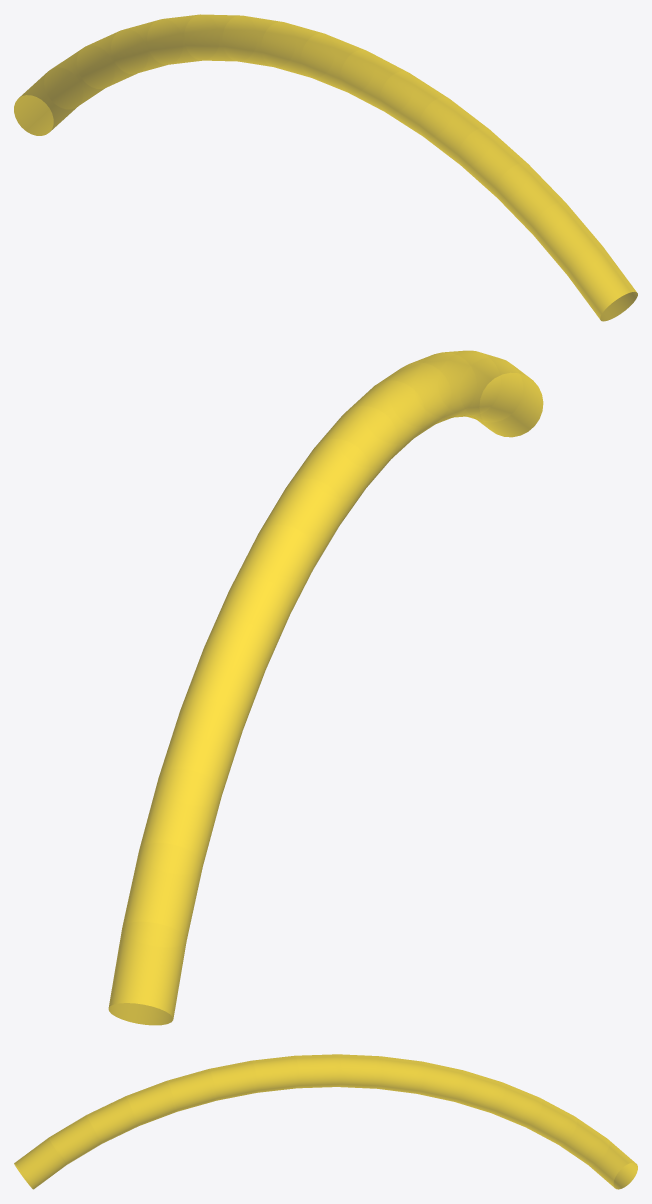
File: Event_40932208_track_33.fbx
3 renders of one model, top to bottom at view 1: azimuth 30°, elevation 25°; view 2: azimuth 150°, elevation 25°; view 3: azimuth 270°, elevation 25°, orthographic. The views are drawn at different scales.
Parts seen in each view (by area): view 1: Model; view 2: Model; view 3: Model.
Boxes of the visible parts, x1,y1,x2,y2 form: Model: (14, 14, 637, 321); Model: (108, 350, 543, 1025); Model: (14, 1054, 637, 1189).
Size of the model in its own units: 0.2015 by 0.2161 by 0.7582.
